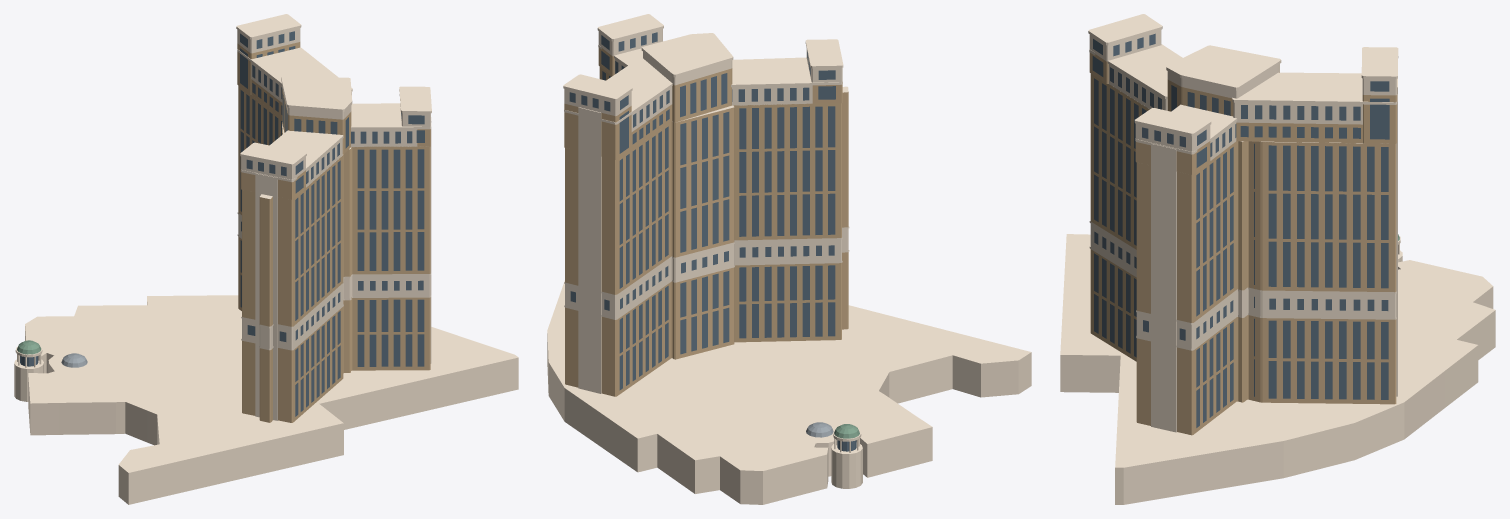
The picture shows the model from 3 angles, left to right: view 1: azimuth 30°, elevation 25°; view 2: azimuth 150°, elevation 25°; view 3: azimuth 270°, elevation 25°; orthographic projection. The views are drawn at different scales.
Parts seen in each view (by area): view 1: the-palazzo; view 2: the-palazzo; view 3: the-palazzo.
Boxes of the visible parts, x1,y1,x2,y2 form: the-palazzo: (14, 14, 518, 504); the-palazzo: (547, 14, 1031, 504); the-palazzo: (1060, 14, 1495, 504).
Size of the model in its own units: 271 by 196 by 212.
